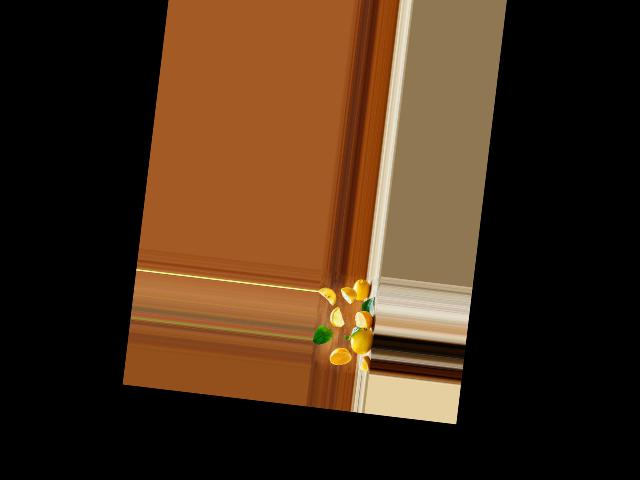lemon: (349, 275, 371, 302)
